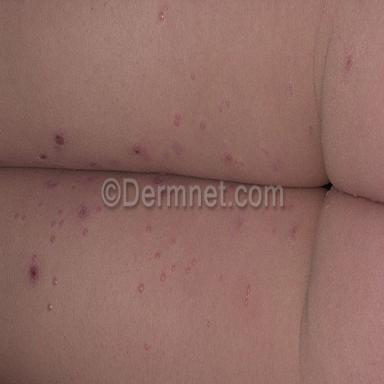Molluscum-Contagiosum: (174, 112, 180, 126), (158, 10, 164, 22), (83, 228, 89, 237), (246, 285, 251, 295), (47, 303, 53, 311), (145, 225, 151, 233), (161, 272, 166, 281), (200, 120, 205, 129), (53, 277, 58, 285), (139, 284, 144, 292), (244, 297, 248, 307), (32, 254, 37, 261), (50, 236, 55, 243), (156, 252, 160, 260), (191, 72, 195, 80), (14, 214, 19, 220), (51, 220, 55, 227), (58, 208, 62, 215), (145, 343, 149, 350), (207, 320, 211, 327), (218, 105, 222, 112), (59, 220, 64, 225), (22, 214, 26, 220), (192, 259, 196, 265), (219, 275, 223, 281), (226, 100, 229, 108), (172, 265, 175, 272), (187, 267, 190, 273), (172, 239, 175, 245)
